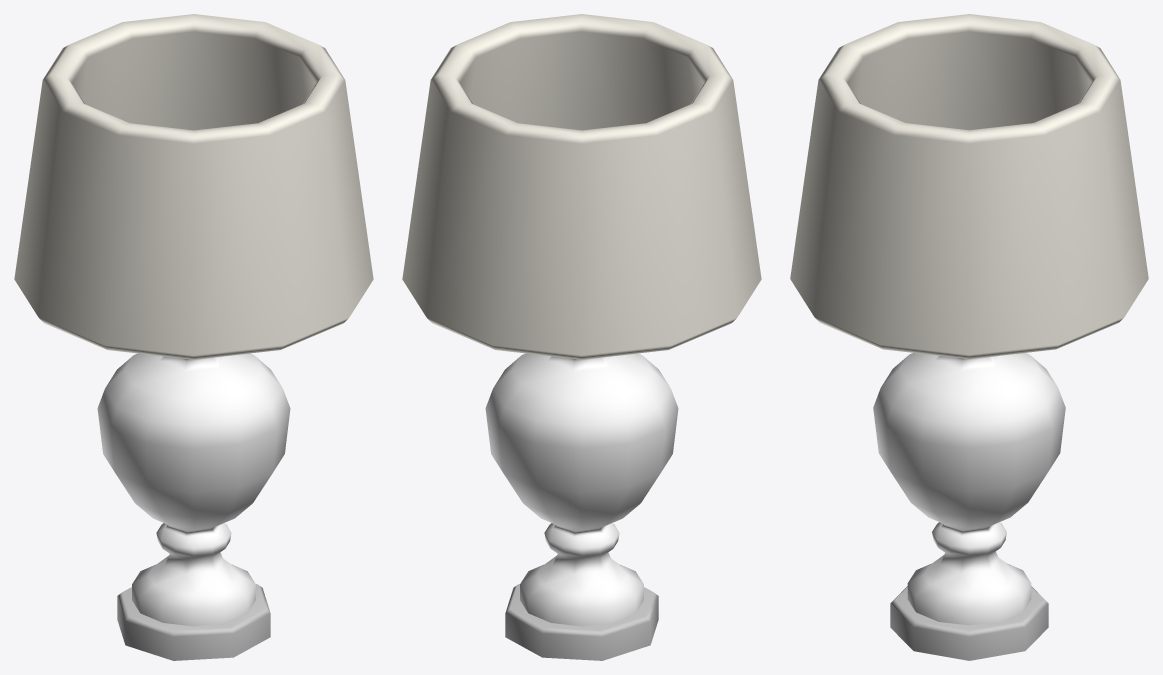
Rendered from lamp_003.fbx.
The picture shows the model from 3 angles, left to right: view 1: azimuth 30°, elevation 25°; view 2: azimuth 150°, elevation 25°; view 3: azimuth 270°, elevation 25°; orthographic projection.
Visible parts, largest first — view 1: lamp_003; view 2: lamp_003; view 3: lamp_003.
Boxes of the visible parts, x1,y1,x2,y2 form: lamp_003: (14,14,373,660); lamp_003: (402,14,761,660); lamp_003: (790,14,1148,660).
Bounding box in the file's own units: 46.31 × 46.31 × 78.82.
